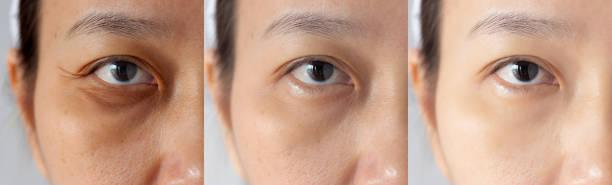Dry-Skin: (20, 58, 92, 184)
